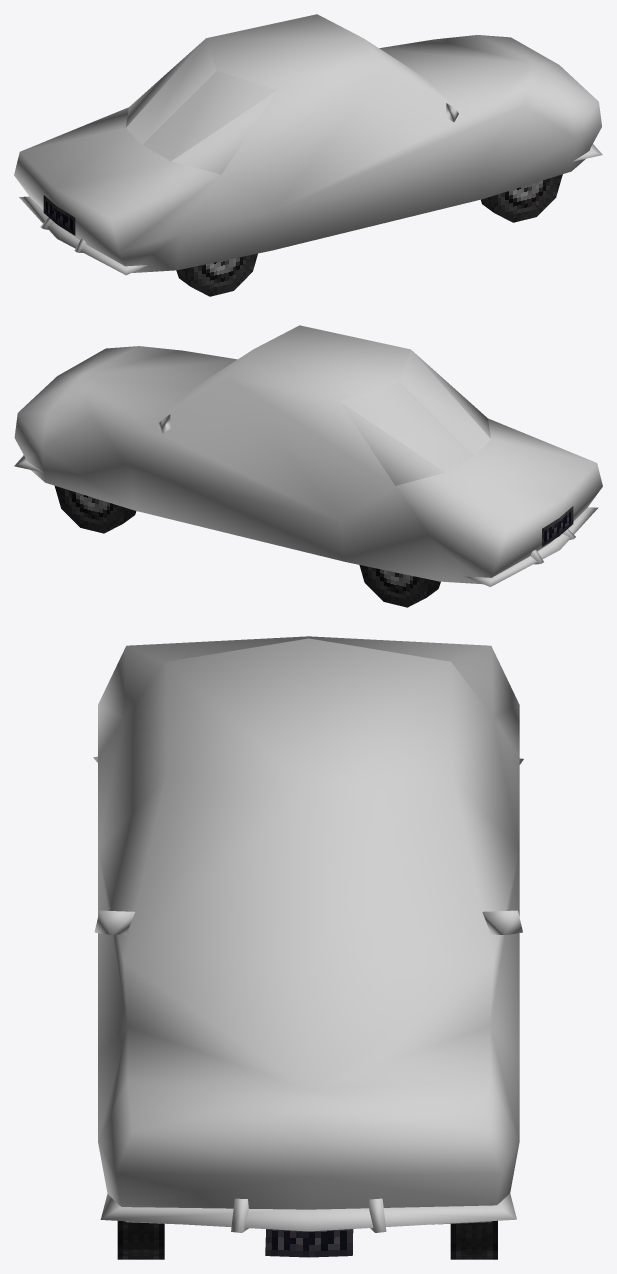
The model's file is Car.fbx.
3 views of the same model, one above another, from view 1: azimuth 30°, elevation 25°; view 2: azimuth 150°, elevation 25°; view 3: azimuth 270°, elevation 25° (orthographic). The views are drawn at different scales.
Visible parts, largest first — view 1: Car, Tire.1, Tire.2, LicensePlate; view 2: Car, Tire.4, Tire.3, LicensePlate; view 3: Car, LicensePlate, Tire.1, Tire.4.
Boxes of the visible parts, x1=… form: Car: x1=14, y1=14, x2=602, y2=275; Tire.1: x1=481, y1=174, x2=562, y2=222; Tire.2: x1=176, y1=253, x2=257, y2=296; LicensePlate: x1=43, y1=195, x2=75, y2=235; Car: x1=14, y1=325, x2=602, y2=586; Tire.4: x1=54, y1=486, x2=136, y2=533; Tire.3: x1=359, y1=565, x2=440, y2=607; LicensePlate: x1=542, y1=506, x2=573, y2=546; Car: x1=93, y1=636, x2=523, y2=1232; LicensePlate: x1=265, y1=1229, x2=353, y2=1257; Tire.1: x1=117, y1=1221, x2=164, y2=1259; Tire.4: x1=450, y1=1220, x2=497, y2=1259.
Size of the model in its own units: 569 by 189 by 208.
